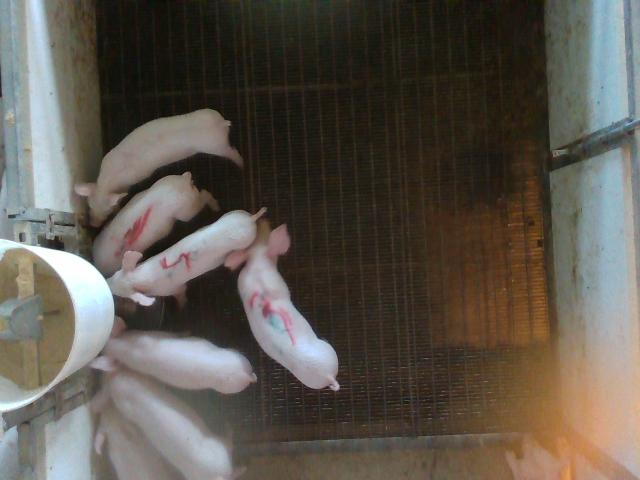pig-1: (92, 172, 219, 276)
pig-3: (225, 219, 340, 391)
pig-5: (108, 208, 266, 306)
